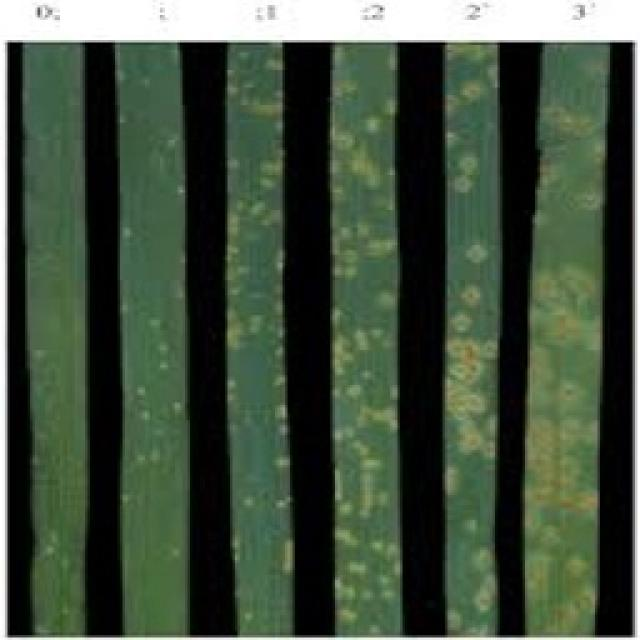Healthy Wheat: (18, 40, 618, 632)
